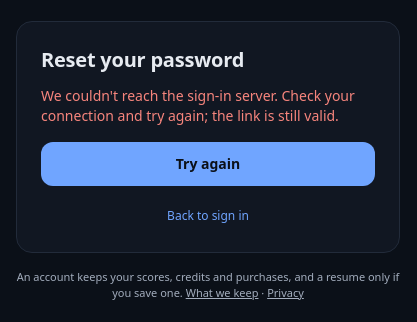
Scenario: 2. a reset link from the default sender that failed, or could not be checked › a token pair the auth server could not be asked about keeps the stash and the marker, says so, and Try again finishes the reset
Expected: the message shows "We couldn't reach the sign-in server. Check your connection and try again; the link is still valid.", [41, 86, 355, 124]
Click the button "Try again" at (208, 164), box [41, 142, 375, 186]
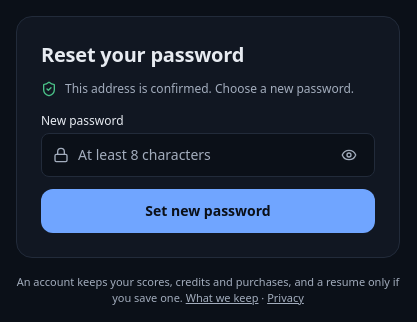
Result: the password field labelled "New password" is shown at [41, 132, 375, 176]
